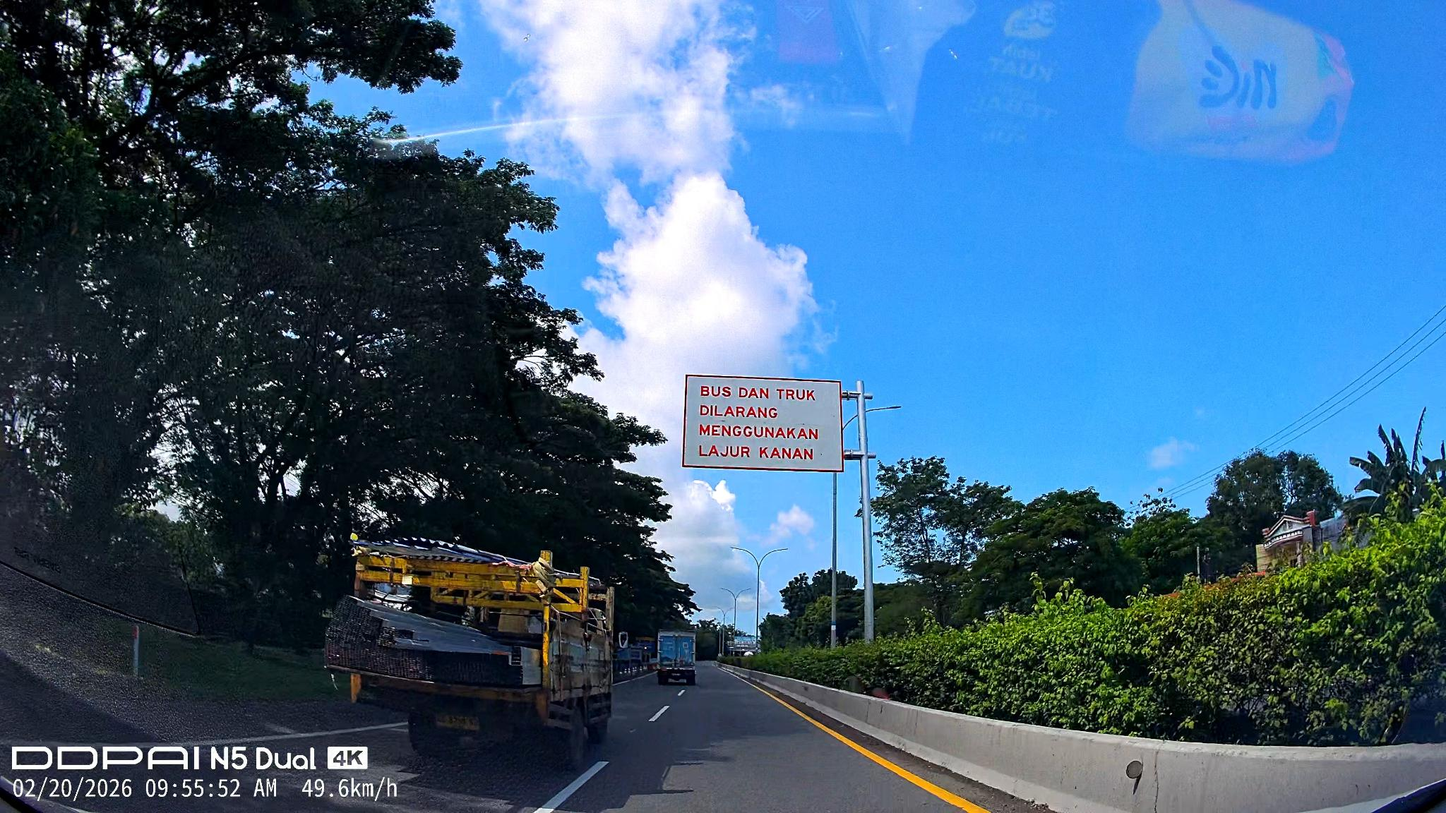rambu_teks: (681, 372, 844, 473)
